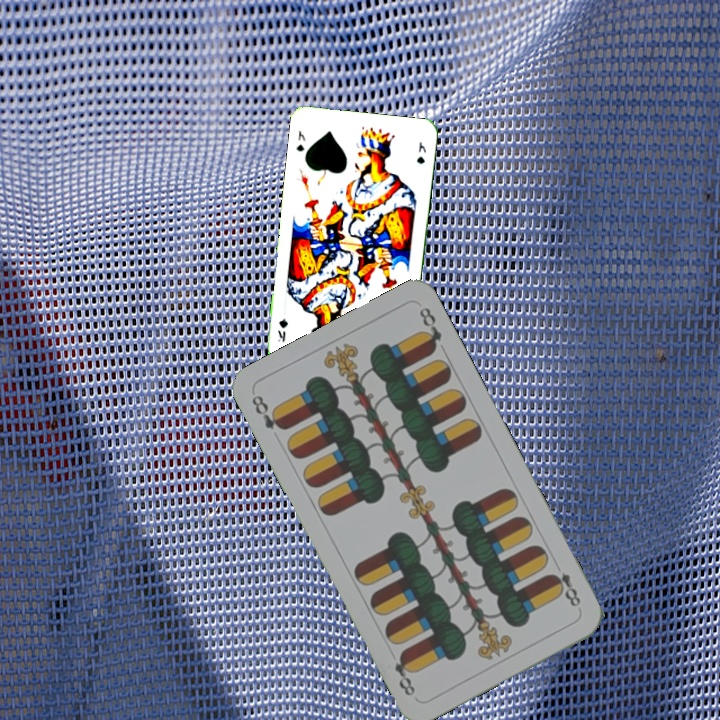E8: (247, 391, 288, 433), (546, 568, 584, 610)
GK: (292, 126, 308, 154)
